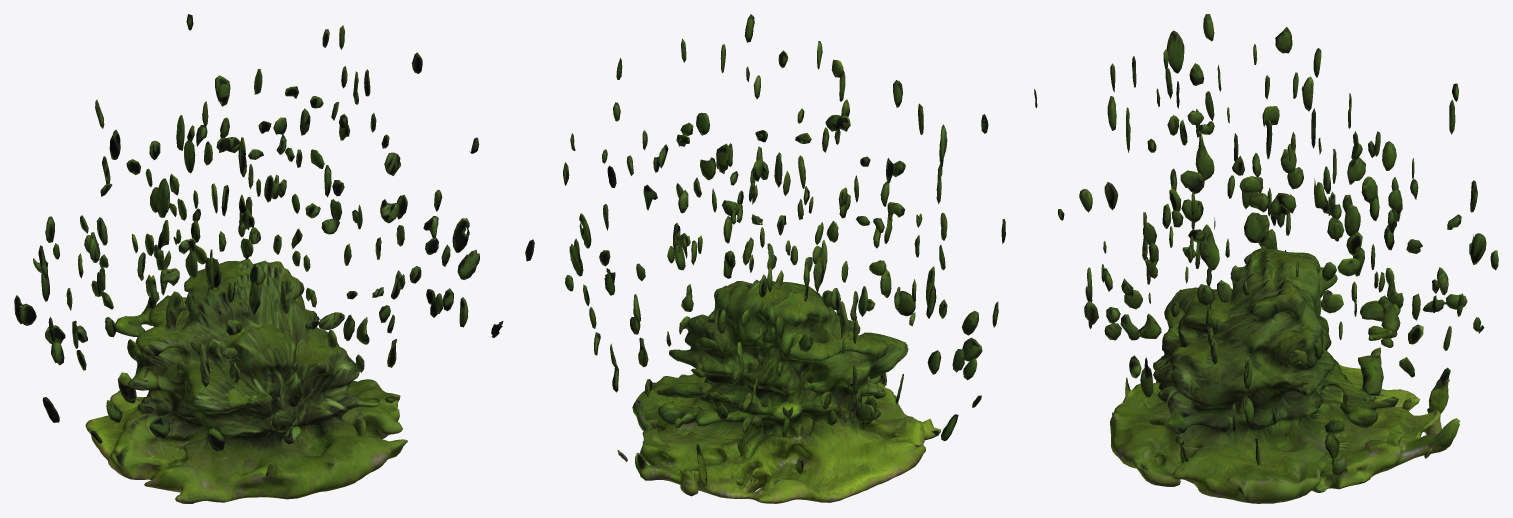
Rendered from AI_DenseGrassTuft.fbx.
The picture shows the model from 3 angles, left to right: view 1: azimuth 30°, elevation 25°; view 2: azimuth 150°, elevation 25°; view 3: azimuth 270°, elevation 25°; orthographic projection. The views are drawn at different scales.
Visible parts, largest first — view 1: Mesh1; view 2: Mesh1; view 3: Mesh1.
Part boxes in pixels (box(x1,y1,x2,y2)): Mesh1: box(14, 14, 534, 503); Mesh1: box(563, 14, 1005, 503); Mesh1: box(1034, 14, 1498, 503).
Bounding box in the file's own units: 165 × 145 × 142.
1 material, 1 textured.
